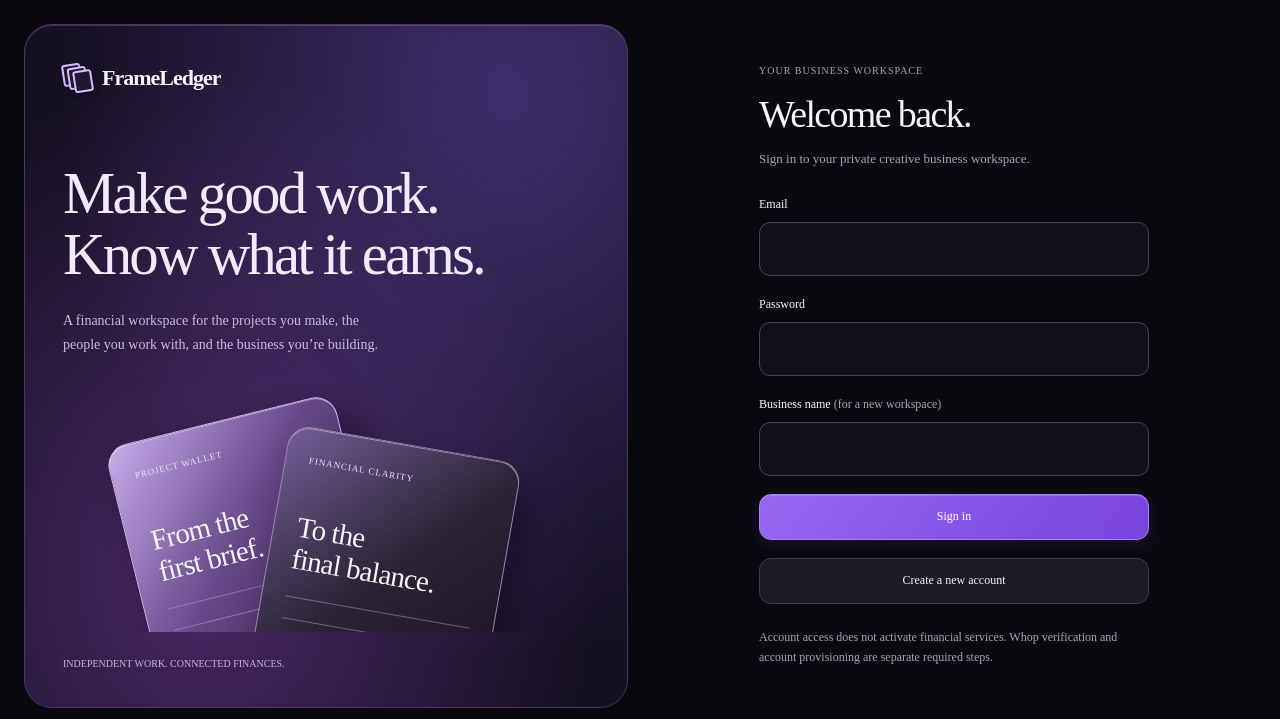
Test case: Supabase sign-in boundary (mocked provider) › does not present auth success when backend workspace loading fails
The width and height of the screenshot is (1280, 719).
Type "creator@example.com" into the field labelled "Email" at (954, 249), box top-left (759, 222), bottom-right (1149, 276)
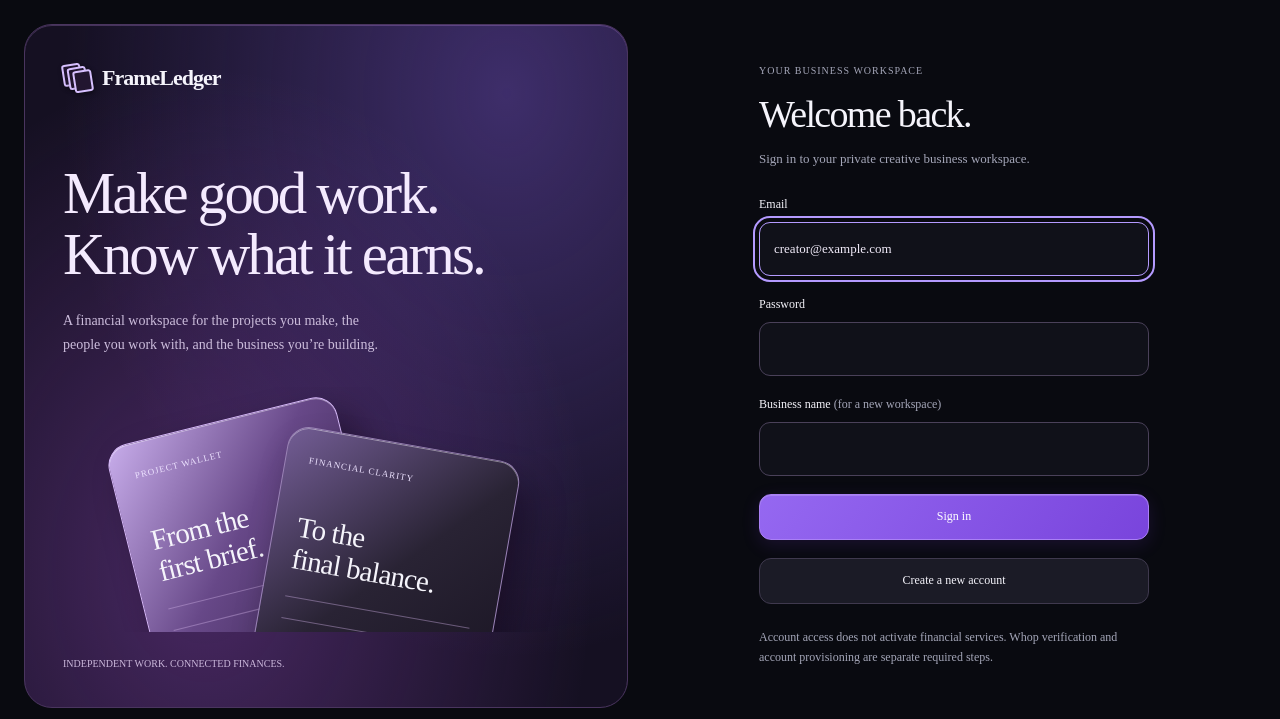
Type "long-test-password" into the password field labelled "Password" at (954, 349), box top-left (759, 322), bottom-right (1149, 376)
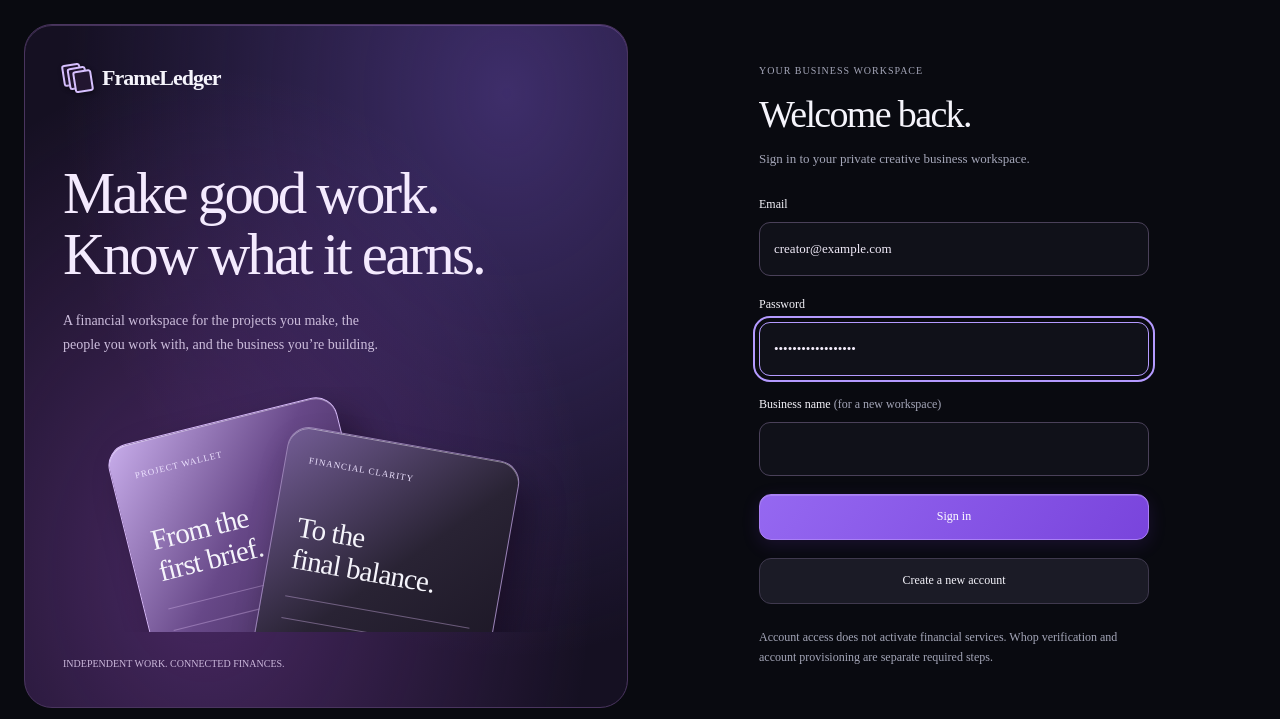
Click the button "Sign in" at (954, 517), box top-left (759, 494), bottom-right (1149, 540)
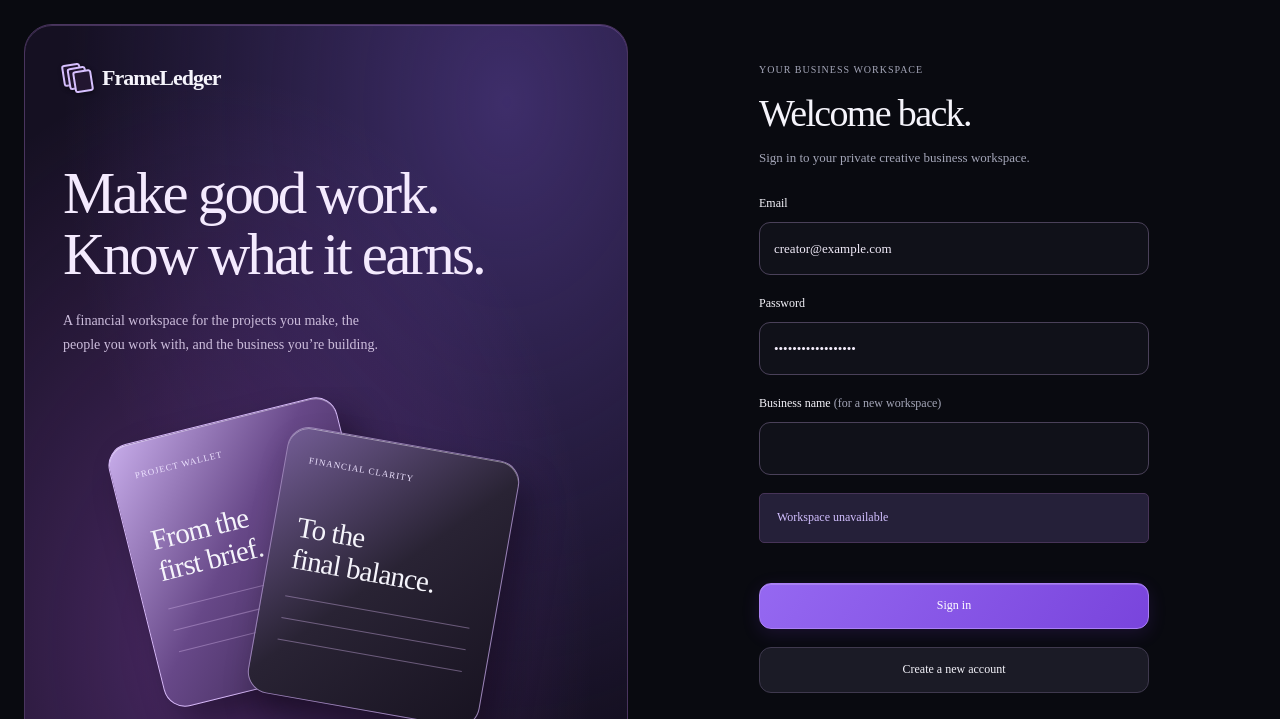
Check: the message reads "Workspace unavailable", box top-left (777, 510), bottom-right (888, 524)
